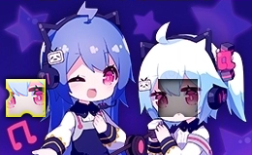gap: (158, 79, 198, 117)
